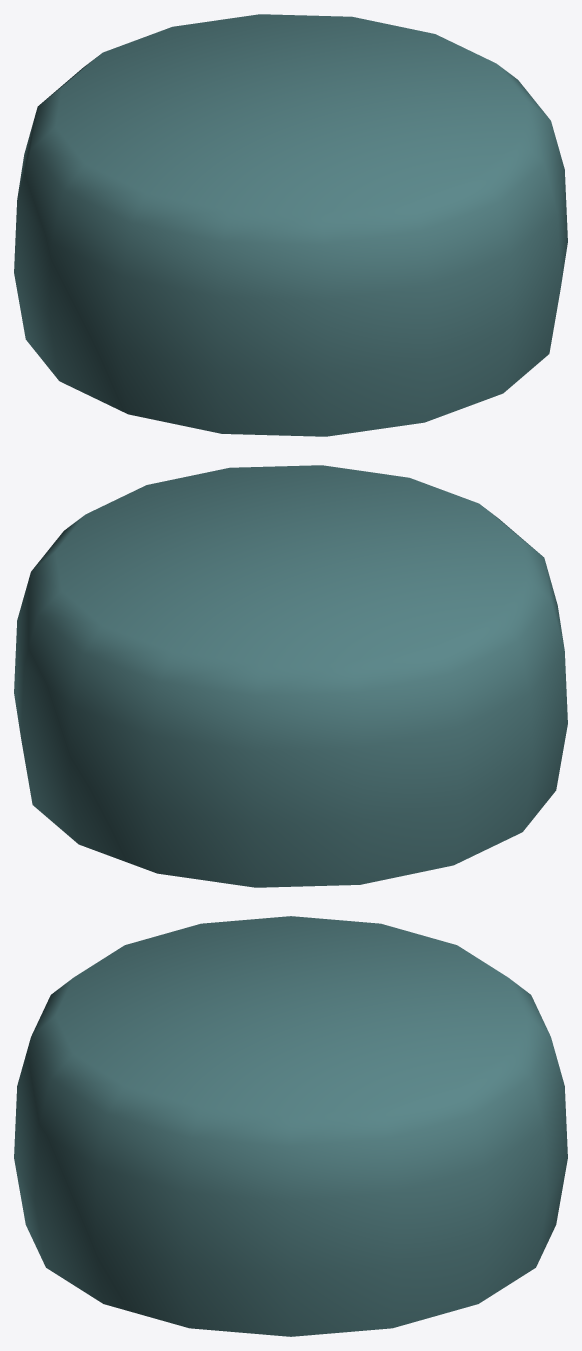
Rendered from Tapa_03.fbx.
3 views of the same model, one above another, from view 1: azimuth 30°, elevation 25°; view 2: azimuth 150°, elevation 25°; view 3: azimuth 270°, elevation 25° (orthographic).
Parts seen in each view (by area): view 1: Tapa_03; view 2: Tapa_03; view 3: Tapa_03.
Part boxes in pixels (bbox=[...]): Tapa_03: bbox=[14, 14, 567, 436]; Tapa_03: bbox=[14, 465, 567, 887]; Tapa_03: bbox=[14, 916, 567, 1336].
Bounding box in the file's own units: 9.59 × 4.03 × 9.59.
